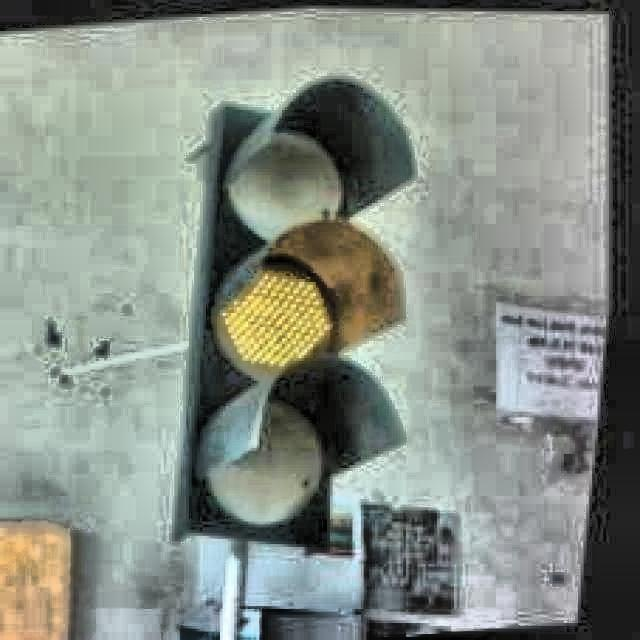yellow: (209, 78, 361, 554)
